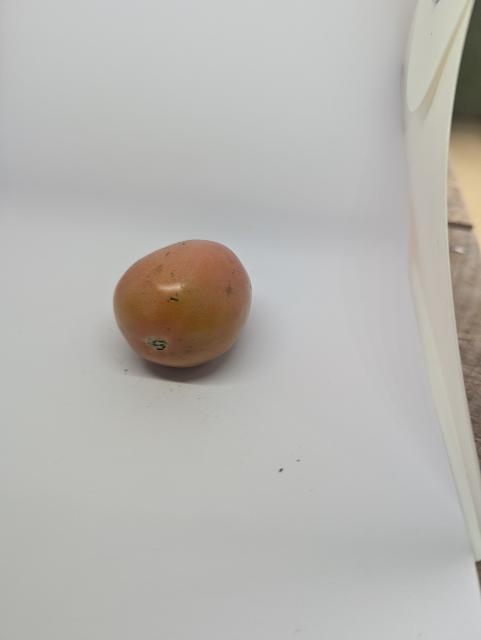turning: (112, 232, 260, 378)
